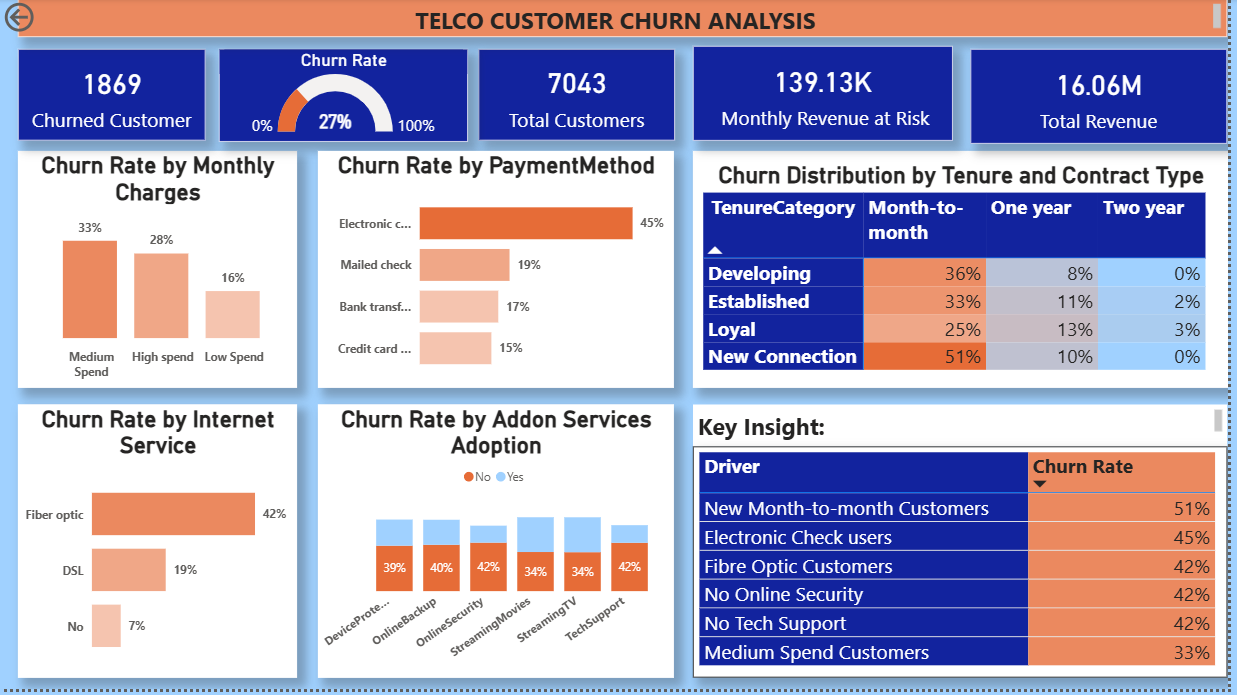

Layout of this report page (visuals, bound fields, positions):
{"tool":"powerbi","page":{"name":"Report","canvas":[1280,720],"ordinal":0},"visuals":[{"type":"columnChart","title":"Churn Rate by Monthly Charges","fields":{"Y":["TelcoFact.Churn%"],"Category":["TelcoFact.SpendCategory"]},"box":[18.8,159.4,290.7,247],"z":0},{"type":"card","fields":{"Values":["Count(TelcoFact.customerID)"]},"box":[498.6,53.1,204.8,95.3],"z":1000},{"type":"pivotTable","title":"Churn Distribution by Tenure and Contract Type","fields":{"Rows":["TelcoFact.TenureCategory"],"Columns":["TelcoFact.Contract"],"Values":["TelcoFact.Churn%"]},"box":[722.1,159.4,558,247],"z":2000},{"type":"card","fields":{"Values":["Sum(TelcoFact.Churn)"]},"box":[18.9,53.3,195.6,95.6],"z":3000},{"type":"gauge","fields":{"Y":["TelcoFact.Churn%"]},"box":[228.2,53.1,259.5,96.9],"z":4000},{"type":"textbox","box":[18.8,0,1259.8,40.6],"z":5000},{"type":"card","fields":{"Values":["TelcoFact.Churned Customer Revenue"]},"box":[722.1,50,270.4,98.5],"z":6000},{"type":"actionButton","box":[0,0,100,40],"z":7000},{"type":"clusteredBarChart","title":"Churn Rate by PaymentMethod","fields":{"Y":["TelcoFact.Churn%"],"Category":["TelcoFact.PaymentMethod"]},"box":[331.4,159.4,370.4,247],"z":8000},{"type":"barChart","title":"Churn Rate by Internet Service","fields":{"Category":["TelcoFact.InternetService"],"Y":["TelcoFact.Churn%"]},"box":[18.8,423.6,290.7,284.5],"z":9000},{"type":"card","fields":{"Values":["Sum(TelcoFact.TotalCharges)"]},"box":[1011.3,53.1,267.3,98.5],"z":10000},{"type":"textbox","box":[722.1,423.6,556.4,43.8],"z":11000},{"type":"columnChart","title":"Churn Rate by Addon Services Adoption","fields":{"Category":["AddOnServices.Services"],"Y":["AddOnServices.Addon Service Churn Rate"],"Series":["AddOnServices.SubscriptionStatus"]},"box":[331.4,423.6,370.4,284.5],"z":12000},{"type":"tableEx","fields":{"Values":["DriverTable.Driver","DriverTable.Impact"]},"box":[722.1,467.3,556.4,240.7],"z":13000}]}

Visuals, with their boxes in screenshot pixels (x1, y1, x2, y2), scaled from the page's 1280x720 canvas onto the 1237x695 screenshot:
"Churn Rate by Monthly Charges" columnChart: 18, 154, 299, 392
card - Count(TelcoFact.customerID): 482, 51, 680, 143
"Churn Distribution by Tenure and Contract Type" pivotTable: 698, 154, 1236, 392
card - Sum(TelcoFact.Churn): 18, 51, 207, 144
gauge - TelcoFact.Churn%: 221, 51, 471, 145
textbox: 18, 0, 1236, 39
card - TelcoFact.Churned Customer Revenue: 698, 48, 959, 143
actionButton: 0, 0, 97, 39
"Churn Rate by PaymentMethod" clusteredBarChart: 320, 154, 678, 392
"Churn Rate by Internet Service" barChart: 18, 409, 299, 684
card - Sum(TelcoFact.TotalCharges): 977, 51, 1236, 146
textbox: 698, 409, 1236, 451
"Churn Rate by Addon Services Adoption" columnChart: 320, 409, 678, 684
tableEx - DriverTable.Driver x DriverTable.Impact: 698, 451, 1236, 683
